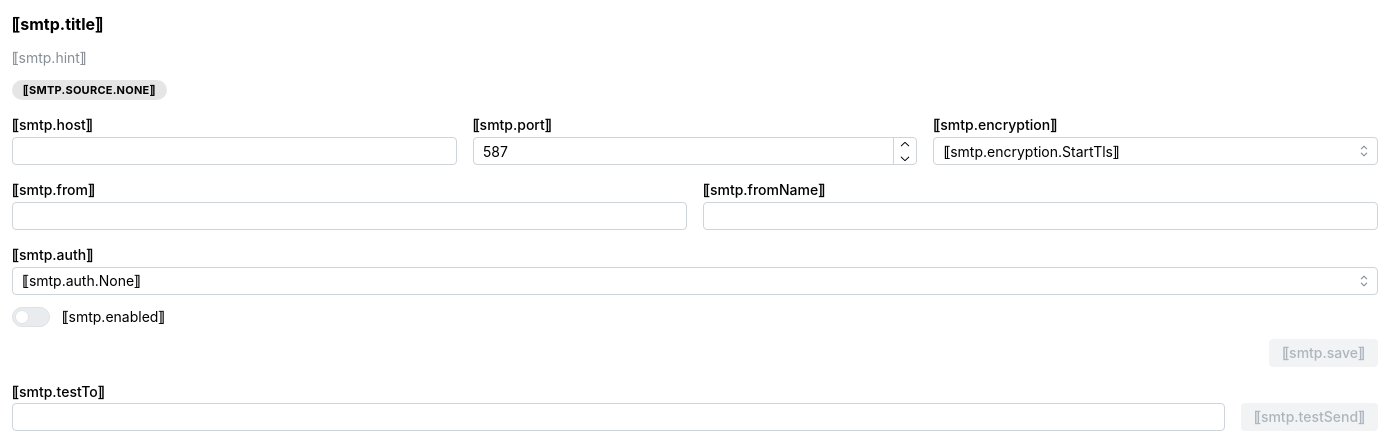
Test: SmtpSettingsPanel — стани › не налаштовано: джерело «немає» словами, поля мають імена, кнопки неактивні без змін
Expected: the field labelled "⟦smtp.host⟧" is shown, [12, 137, 457, 165]
Expected: the element showing "⟦smtp.source.none⟧" is shown, [12, 80, 166, 100]
# Незбережена правка: проба пішла б зі СТАРИМИ налаштуваннями — кнопка проби неактивна.
Type "me@corp.example" into the field labelled "⟦smtp.testTo⟧". click: (618, 418)
box: [12, 404, 1225, 432]
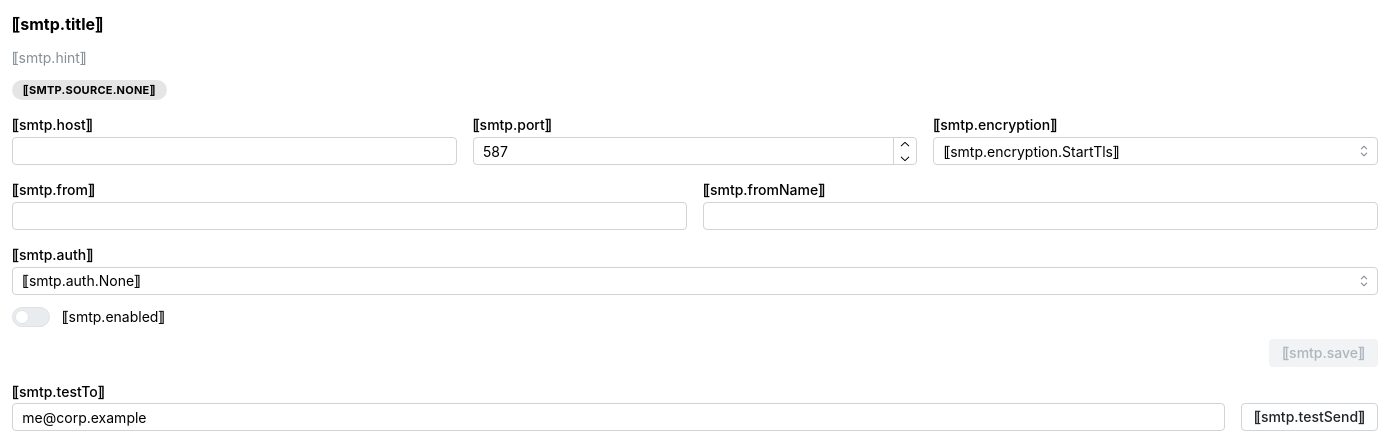
Result: the button "⟦smtp.testSend⟧" is enabled at [1241, 404, 1378, 432]
Type "relay.corp.example" into the field labelled "⟦smtp.host⟧". click: (234, 151)
box: [12, 137, 457, 165]
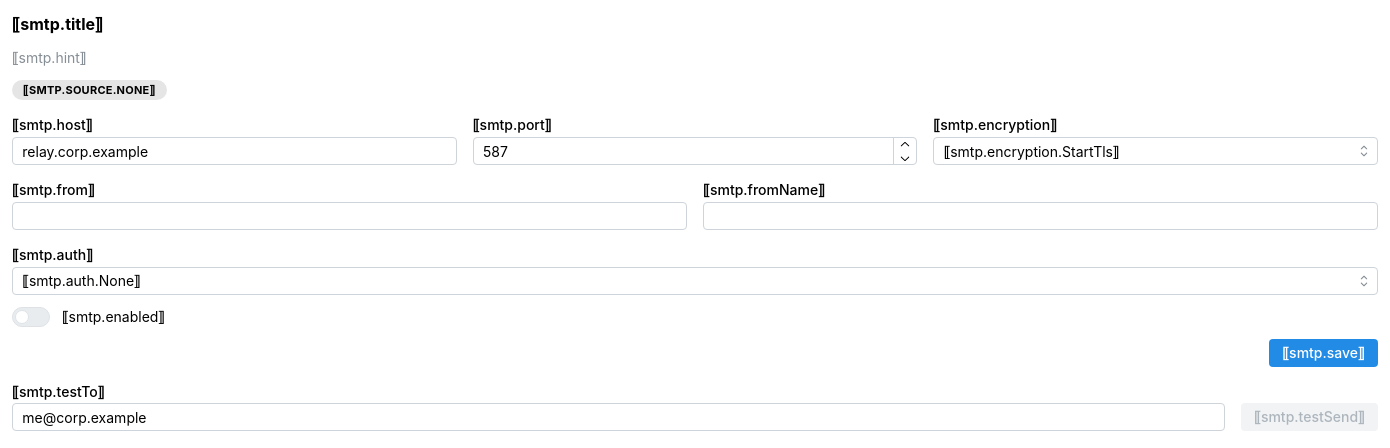
Result: the button "⟦smtp.testSend⟧" is disabled at [1241, 404, 1378, 432]
Result: the button "⟦smtp.save⟧" is enabled at [1269, 339, 1378, 367]
